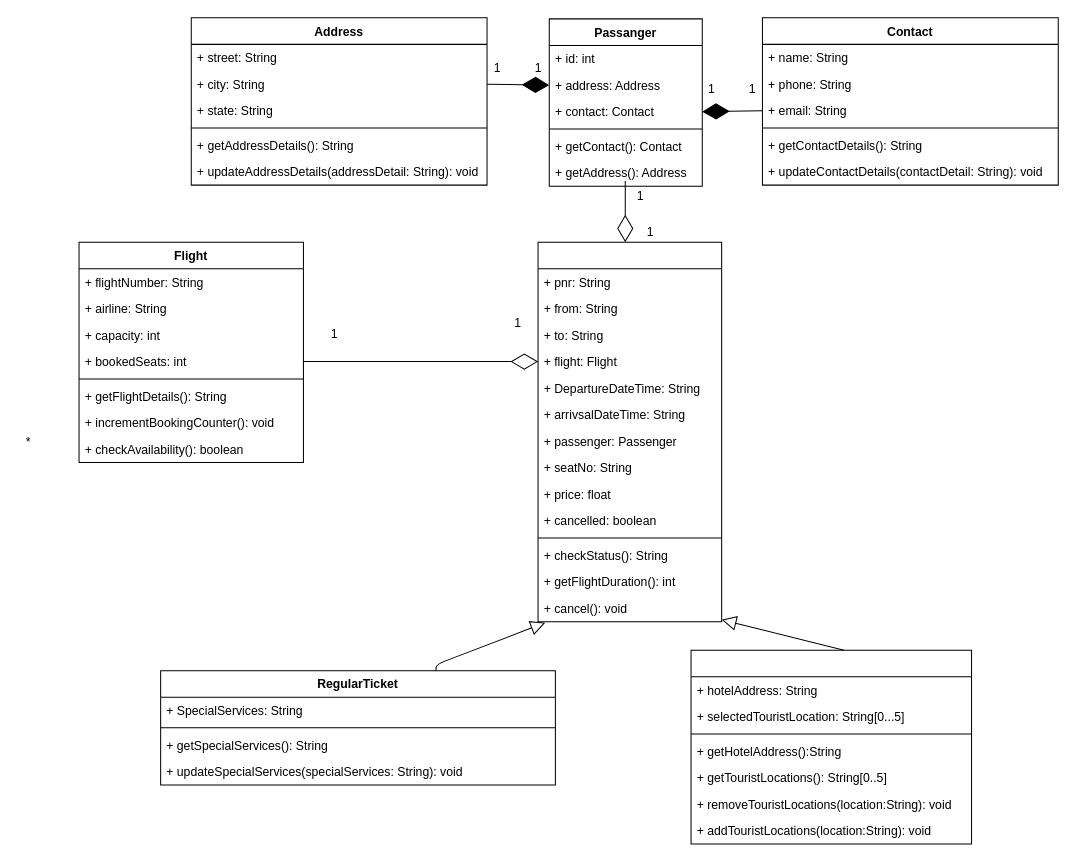
This 1076x865 diagram has some shape labels left out. The shapes that lost their labels are listed below. From the top down, each one's box as (x1, y1, x2, y2) in pixels, then its label:
(537, 241, 722, 622): Ticket
(690, 649, 972, 844): TouristTicket
